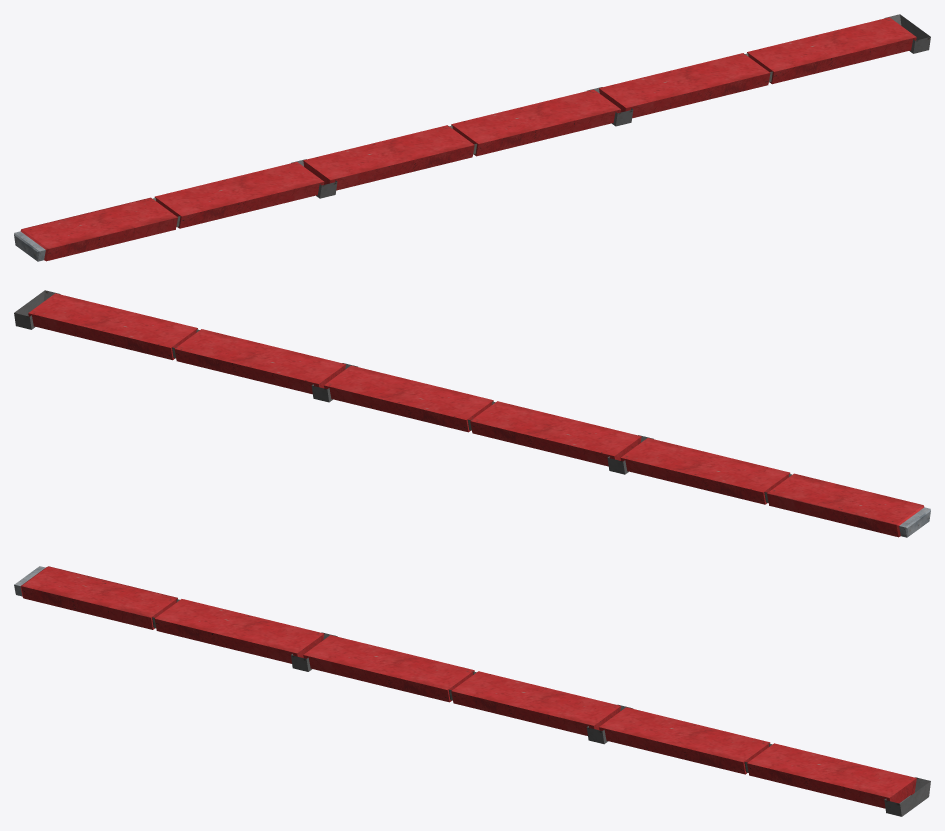
The model's file is Ob_WallSupport2_RC.fbx.
The picture shows the model from 3 angles, top to bottom: view 1: azimuth 30°, elevation 25°; view 2: azimuth 150°, elevation 25°; view 3: azimuth 330°, elevation 25°; orthographic projection.
Parts seen in each view (by area): view 1: Ob_WallSupport2_RC; view 2: Ob_WallSupport2_RC; view 3: Ob_WallSupport2_RC.
Part boxes in pixels (x1=…): Ob_WallSupport2_RC: x1=14, y1=14, x2=930, y2=261; Ob_WallSupport2_RC: x1=14, y1=290, x2=930, y2=537; Ob_WallSupport2_RC: x1=14, y1=566, x2=930, y2=816.
Bounding box in the file's own units: 9627 × 165 × 580.
